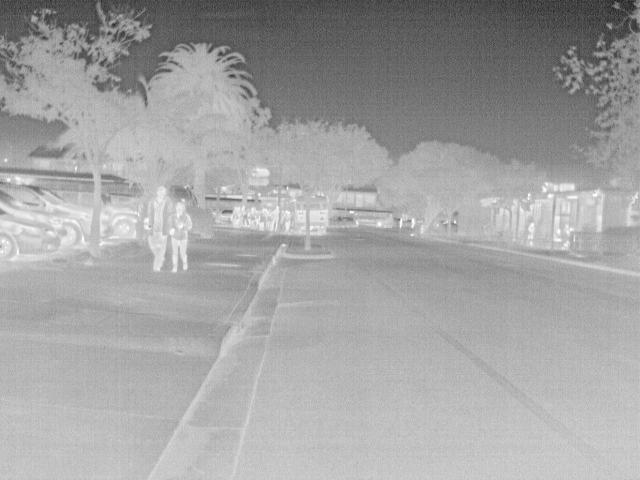car: (2, 181, 94, 252), (4, 206, 60, 264), (104, 201, 139, 238), (219, 208, 234, 223)
person: (140, 188, 171, 274), (168, 200, 192, 272), (560, 223, 574, 249), (268, 204, 280, 232), (526, 220, 538, 246), (280, 209, 293, 232), (551, 225, 565, 242), (397, 216, 405, 228)
